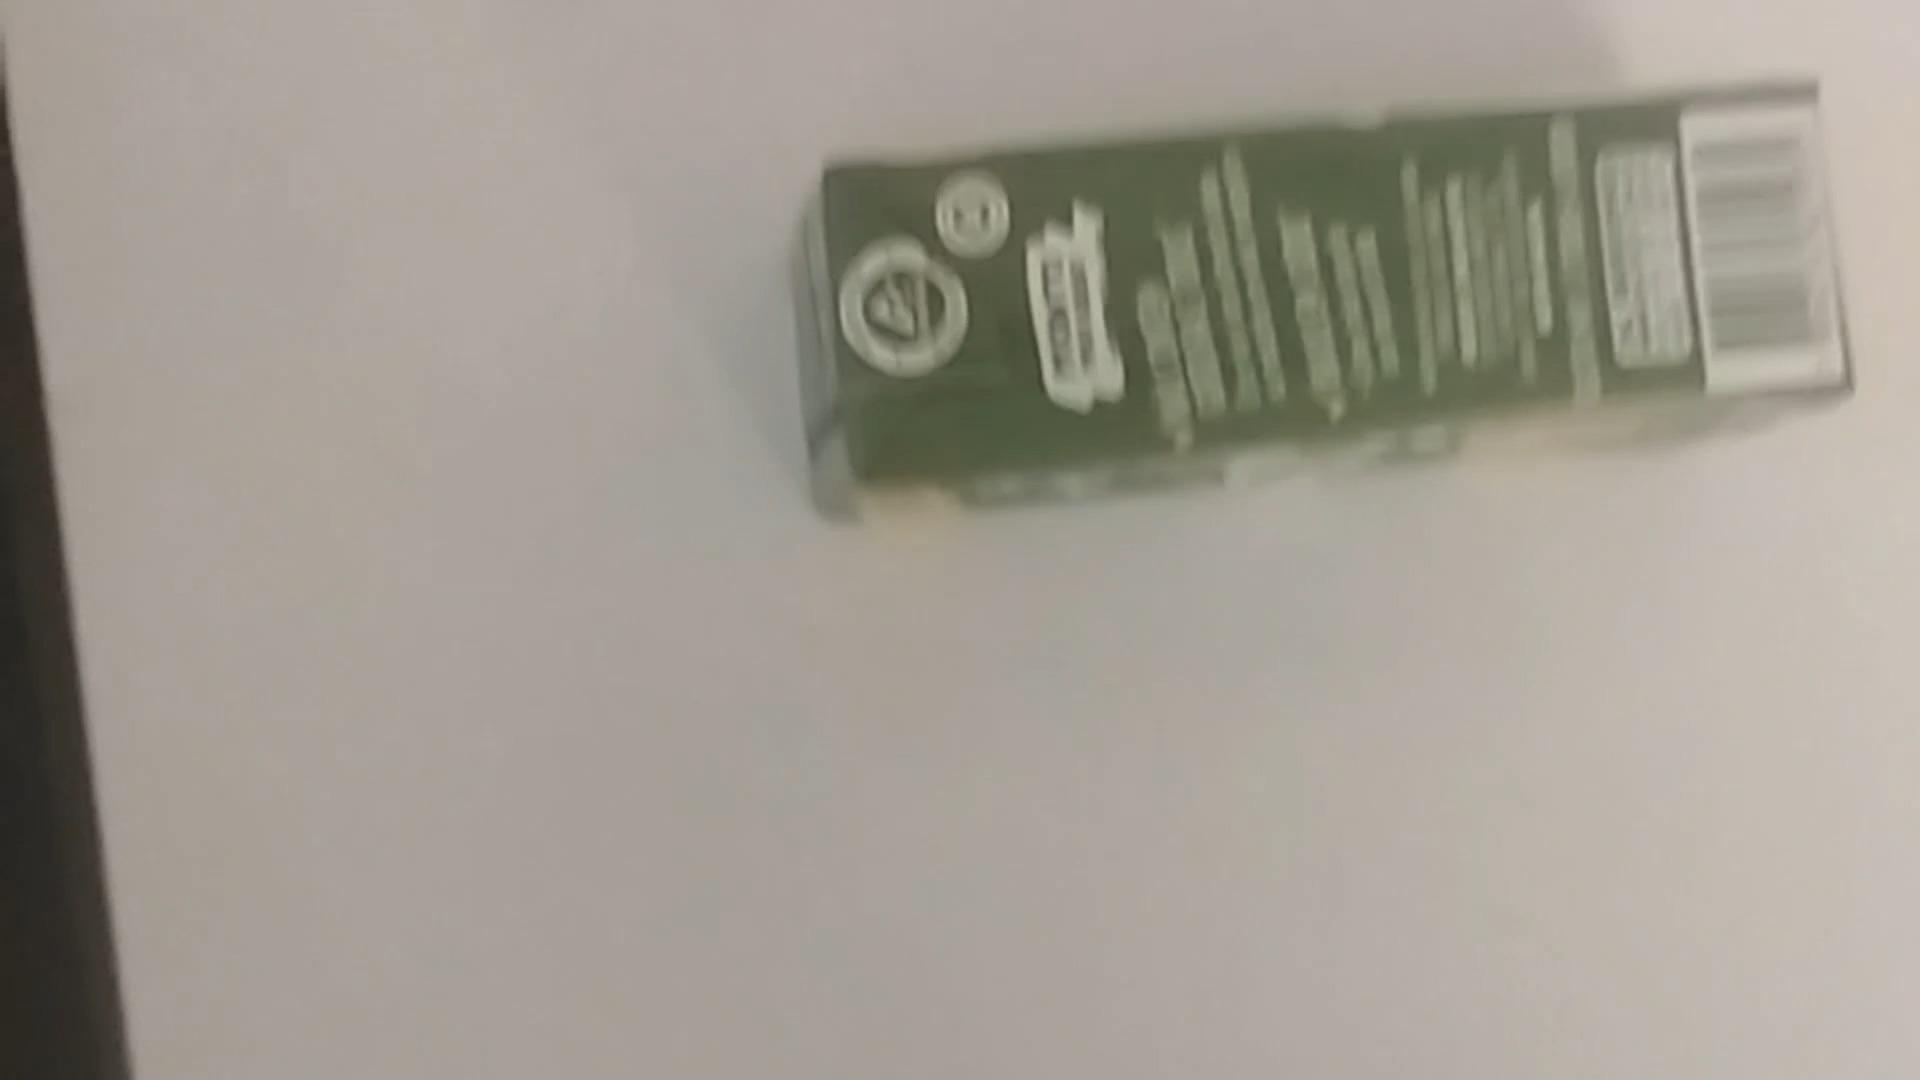coco: (798, 78, 1859, 533)
